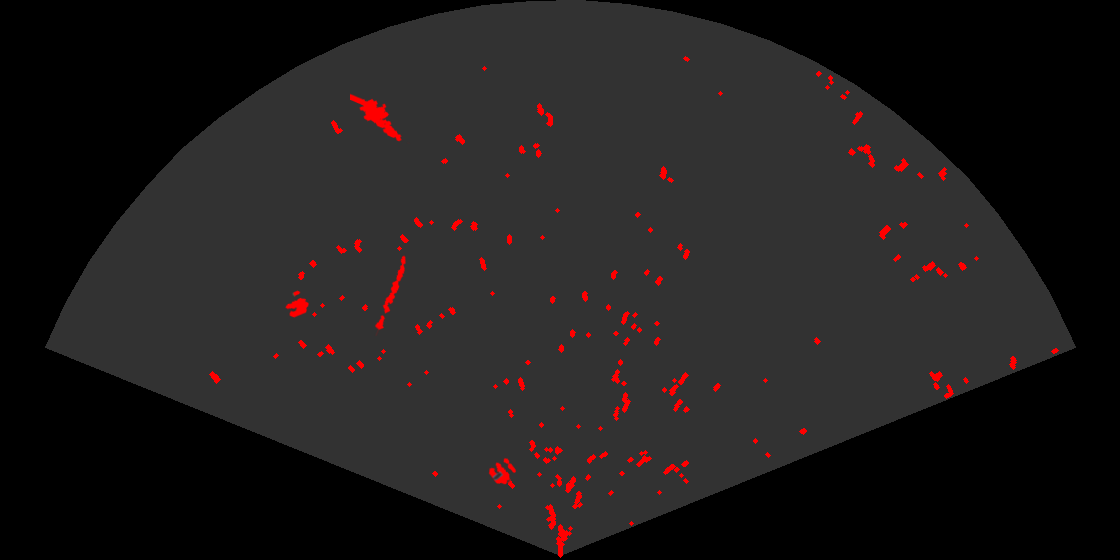ball: (487, 456, 518, 486), (284, 289, 310, 319)
chain: (373, 254, 408, 336)
frogman: (350, 92, 411, 144)
